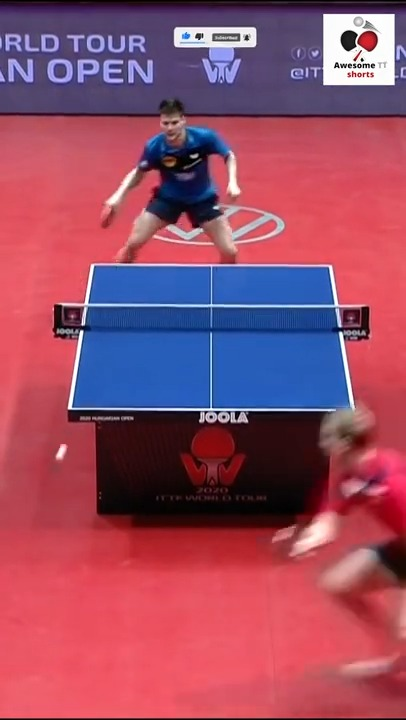Ball: (54, 442, 68, 461)
